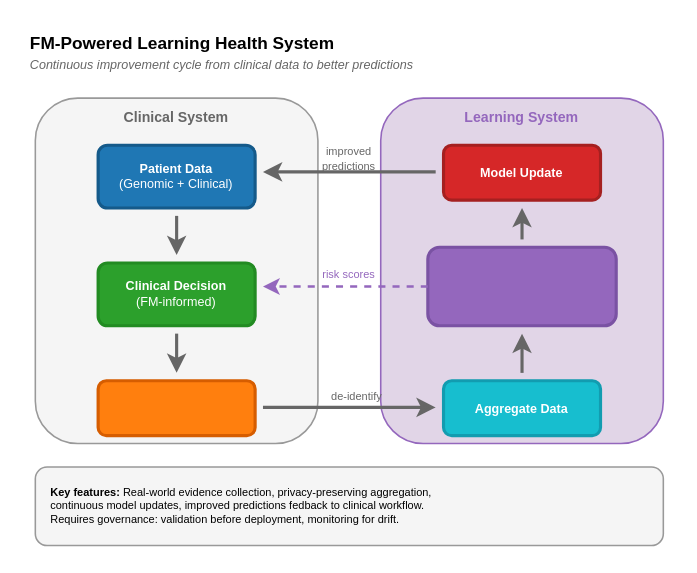
Some shapes in this 697 by 573 pixel diagram are drawn without their labels. The centre of each missing label's shape, as x and y in pixels:
"Foundation Model (Fine-tuned on outcomes)" goes at (521,286).
"Patient Outcome" goes at (176,407).
